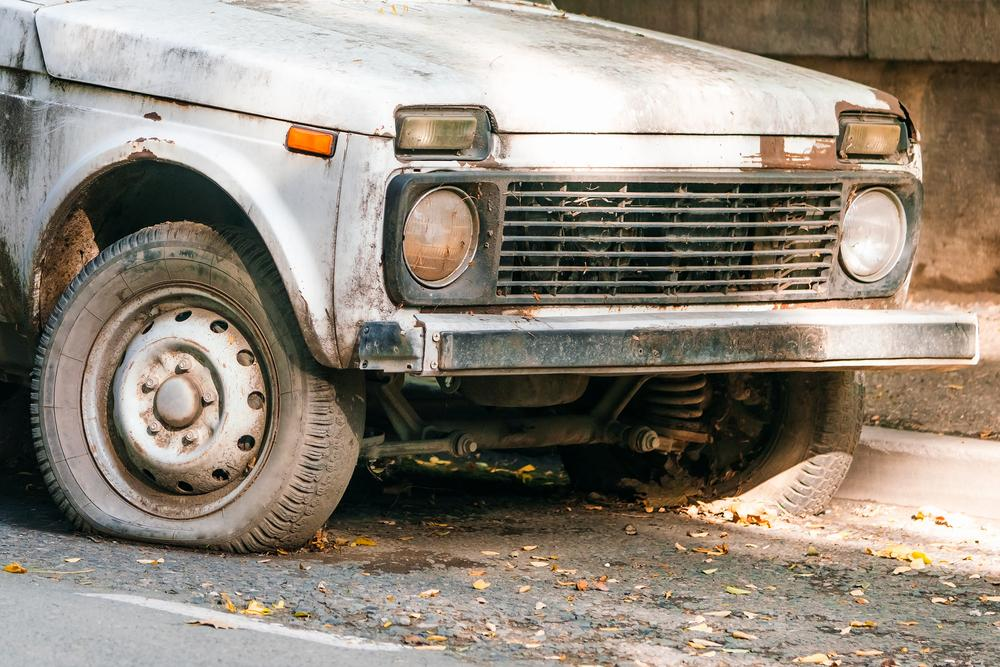tire flat: (33, 221, 364, 554), (687, 368, 861, 519)
